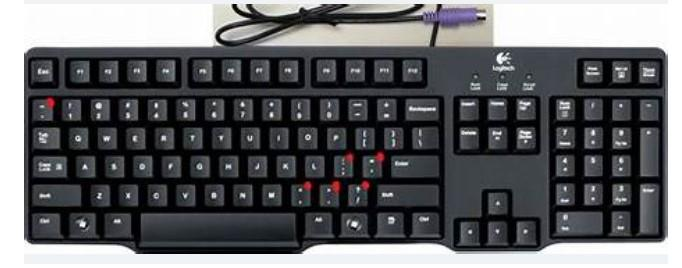Keyboard: (23, 47, 669, 255)
